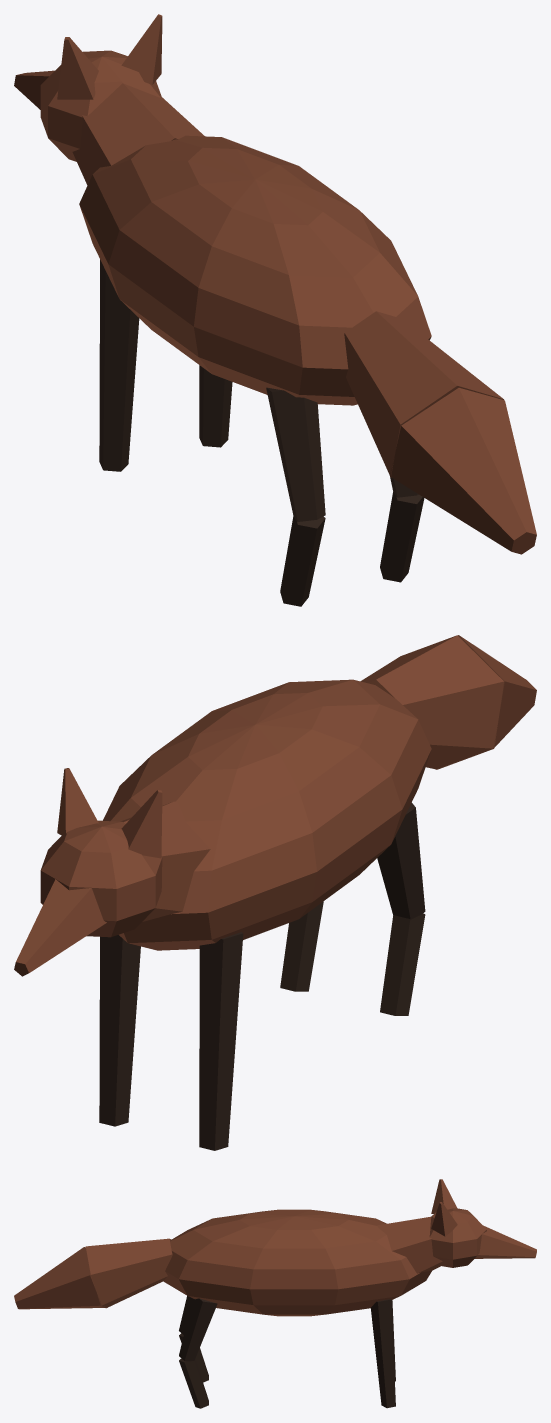
File: fox.glb
3 views of the same model, one above another, from view 1: azimuth 30°, elevation 25°; view 2: azimuth 150°, elevation 25°; view 3: azimuth 270°, elevation 25° (orthographic). The views are drawn at different scales.
Parts seen in each view (by area): view 1: fox; view 2: fox; view 3: fox.
Part boxes in pixels (x1,y1,x2,y2): fox: (14, 14, 536, 606); fox: (14, 635, 536, 1150); fox: (14, 1179, 536, 1408).
Bounding box in the file's own units: 0.3138 × 0.5671 × 1.32.
